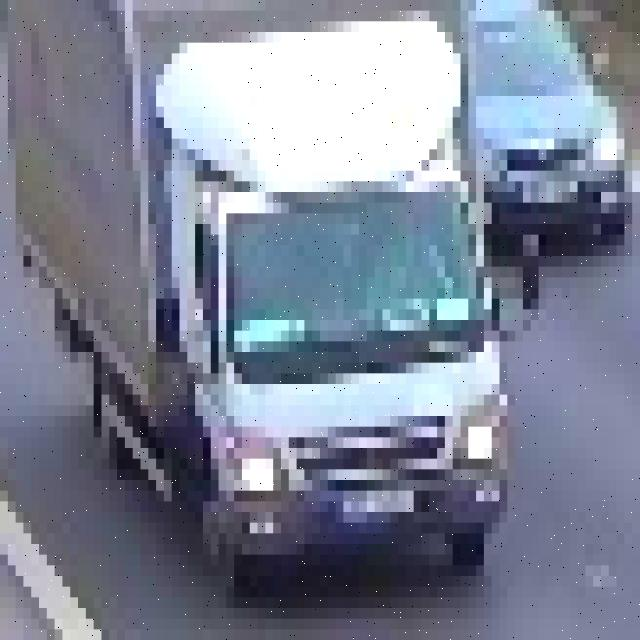truck: (8, 0, 546, 576)
